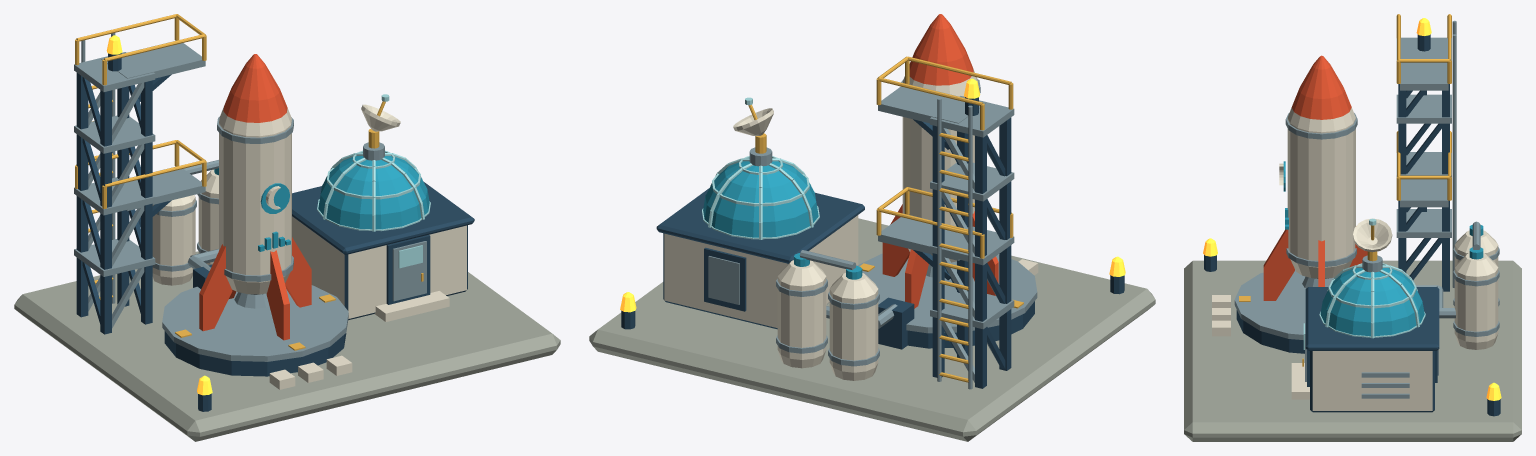
The model's file is luna-lv2.glb.
3 renders of one model, left to right at view 1: azimuth 30°, elevation 25°; view 2: azimuth 150°, elevation 25°; view 3: azimuth 270°, elevation 25°, orthographic. The views are drawn at different scales.
Parts seen in each view (by area): view 1: Luna_L2, Ocean_Explorer.001, Moon_Tracking_Dish.001; view 2: Luna_L2, Ocean_Explorer.001, Moon_Tracking_Dish.001; view 3: Luna_L2, Ocean_Explorer.001, Moon_Tracking_Dish.001.
Boxes of the visible parts, left/top/right/bottom form: Luna_L2: left=14, top=14, right=560, bottom=441; Ocean_Explorer.001: left=199, top=54, right=311, bottom=340; Moon_Tracking_Dish.001: left=361, top=94, right=400, bottom=148; Luna_L2: left=589, top=56, right=1155, bottom=441; Ocean_Explorer.001: left=882, top=14, right=998, bottom=308; Moon_Tracking_Dish.001: left=733, top=97, right=773, bottom=153; Luna_L2: left=1184, top=14, right=1521, bottom=441; Ocean_Explorer.001: left=1263, top=55, right=1367, bottom=300; Moon_Tracking_Dish.001: left=1353, top=218, right=1392, bottom=261.
Bounding box in the file's own units: 5.5 × 4.29 × 4.65.
